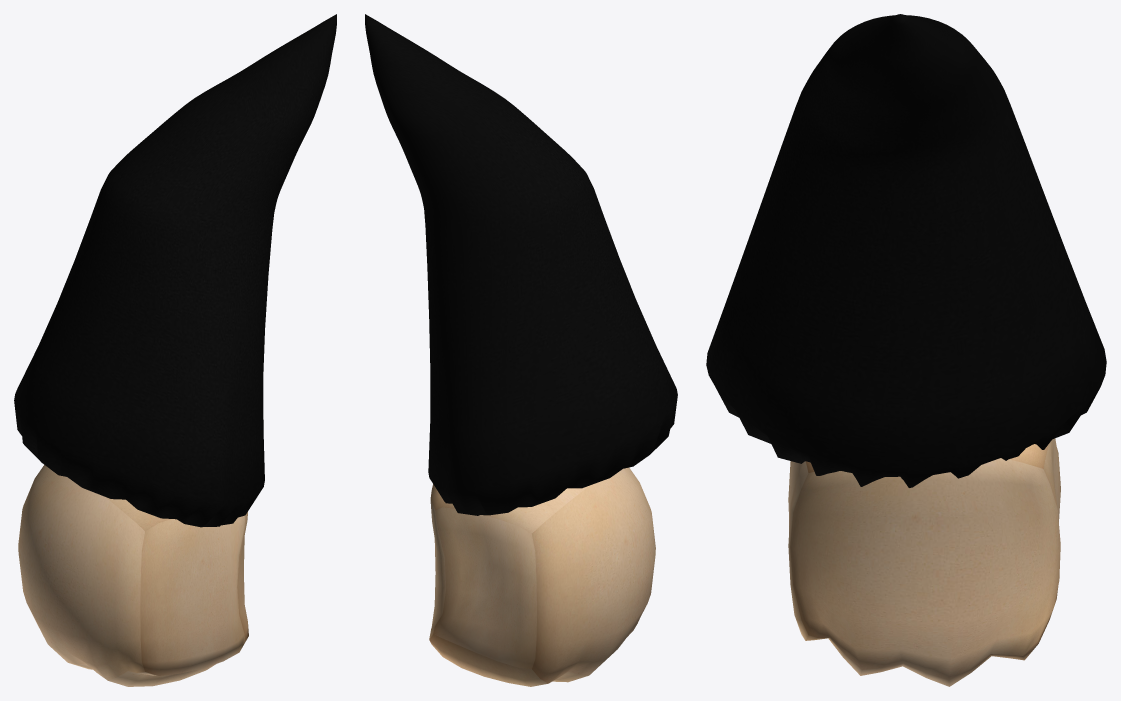
Rendered from Brazo_Der.obj.
3 views of the same model, side by side, from view 1: azimuth 30°, elevation 25°; view 2: azimuth 150°, elevation 25°; view 3: azimuth 270°, elevation 25° (orthographic). The views are drawn at different scales.
Visible parts, largest first — view 1: Cone002, Box001; view 2: Cone002, Box001; view 3: Cone002, Box001.
Part boxes in pixels (x1,y1,x2,y2): Cone002: (14,14,336,527); Box001: (18,465,248,686); Cone002: (365,14,677,515); Box001: (429,467,655,686); Cone002: (706,14,1106,487); Box001: (788,438,1060,686).
Size of the model in its own units: 9.34 by 18.49 by 8.82.
